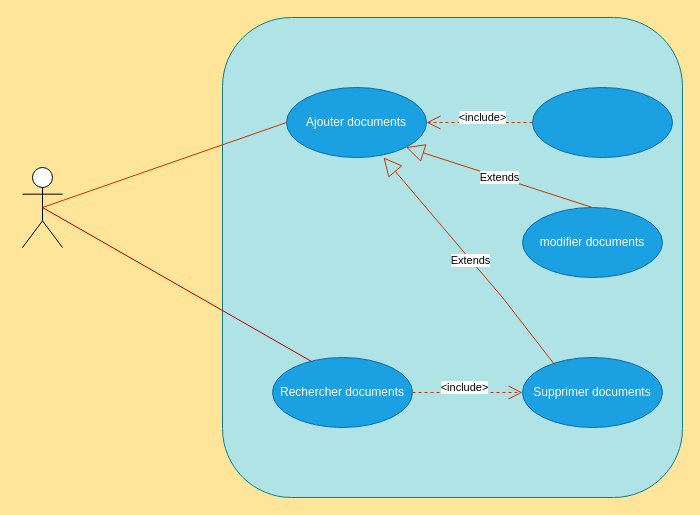
Some shapes in this 700 by 515 pixel diagram are drawn without their labels. The shapes that lost their labels are listed below. From the top down, each one's box as (x1, y1, x2, y2) in pixels, then its label:
(532, 86, 672, 158): Ajouter numéro et nom
(22, 166, 62, 248): utilisateur
